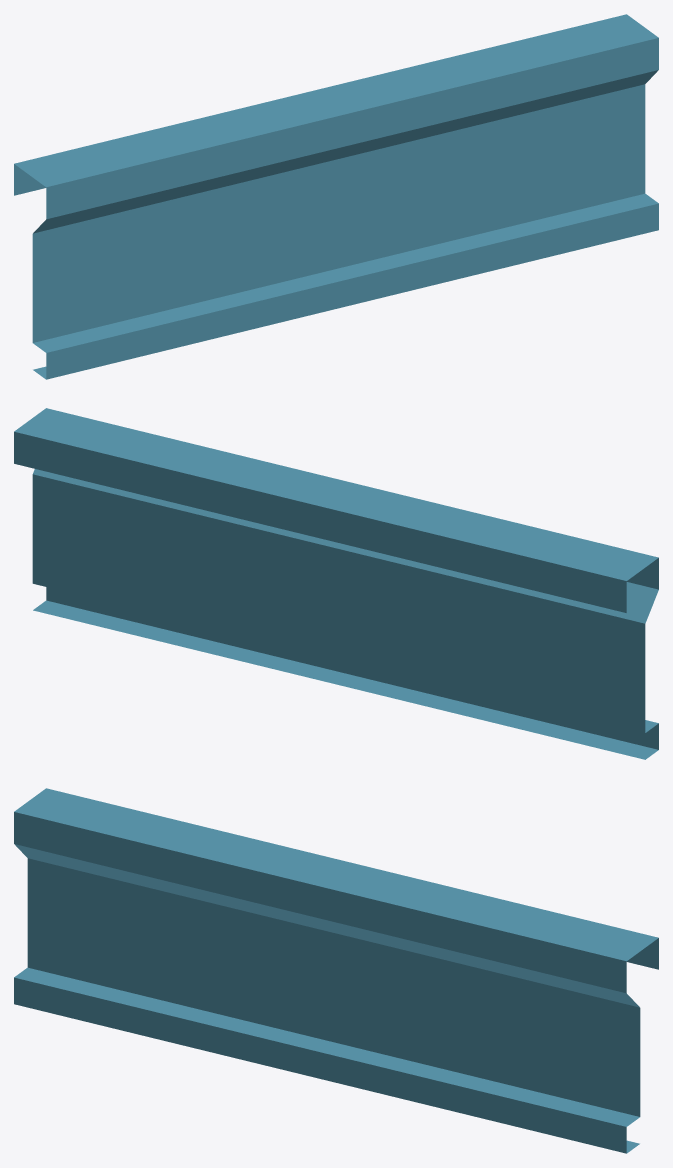
The model's file is wall1c cap lod1.FBX.
The picture shows the model from 3 angles, top to bottom: view 1: azimuth 30°, elevation 25°; view 2: azimuth 150°, elevation 25°; view 3: azimuth 330°, elevation 25°; orthographic projection.
Parts seen in each view (by area): view 1: Object287; view 2: Object287; view 3: Object287.
Boxes of the visible parts, box(x1,y1,x2,y2) form: Object287: box(14, 14, 658, 379); Object287: box(14, 408, 658, 759); Object287: box(14, 788, 658, 1153).
Bounding box in the file's own units: 6 × 1.8 × 0.5465.
